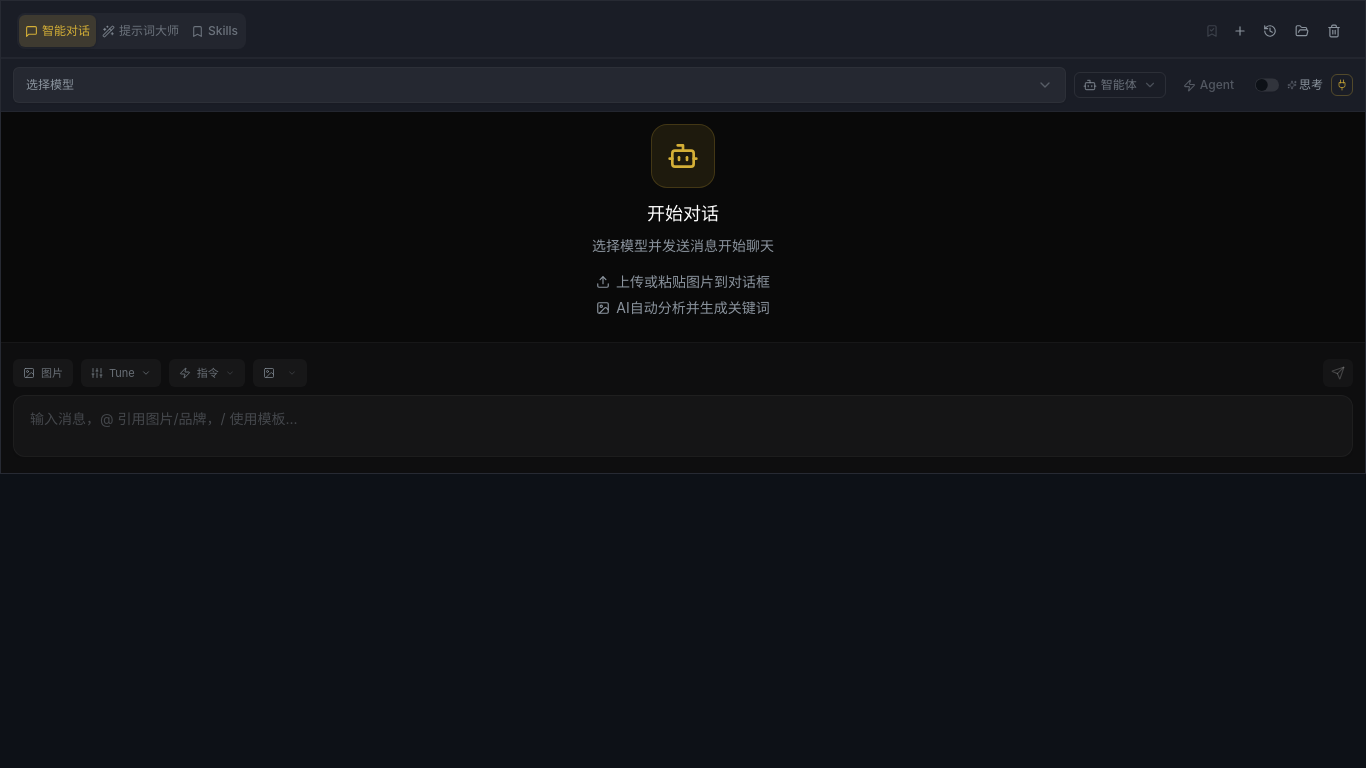
Test case: Canvas compliance report projection › keeps a restored report visible and disables recheck after its current Skill is deleted
Click the button with aria-label "Skills技能库": (214, 31) [185,15,244,47]
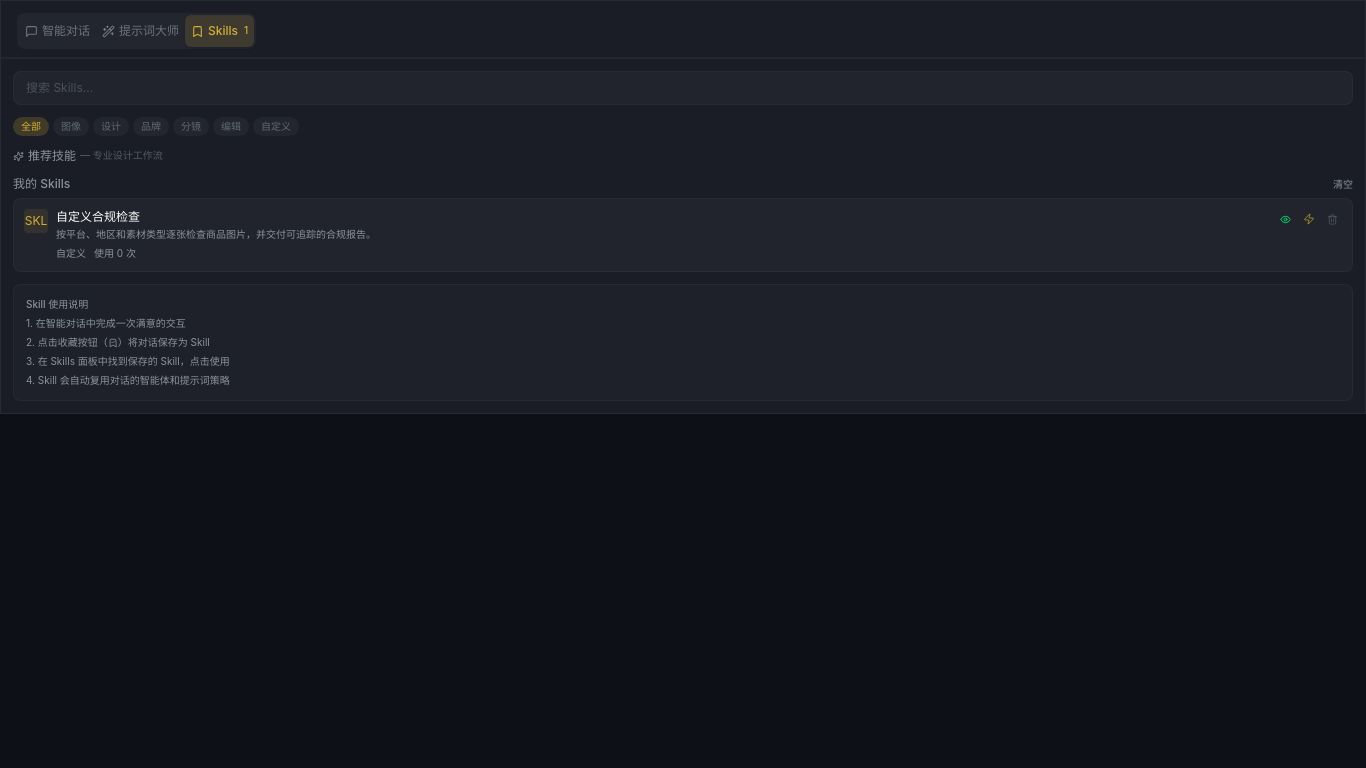
Click the button titled "使用此 Skill": (1309, 219) [1299,209,1319,229]
(page scrolled)
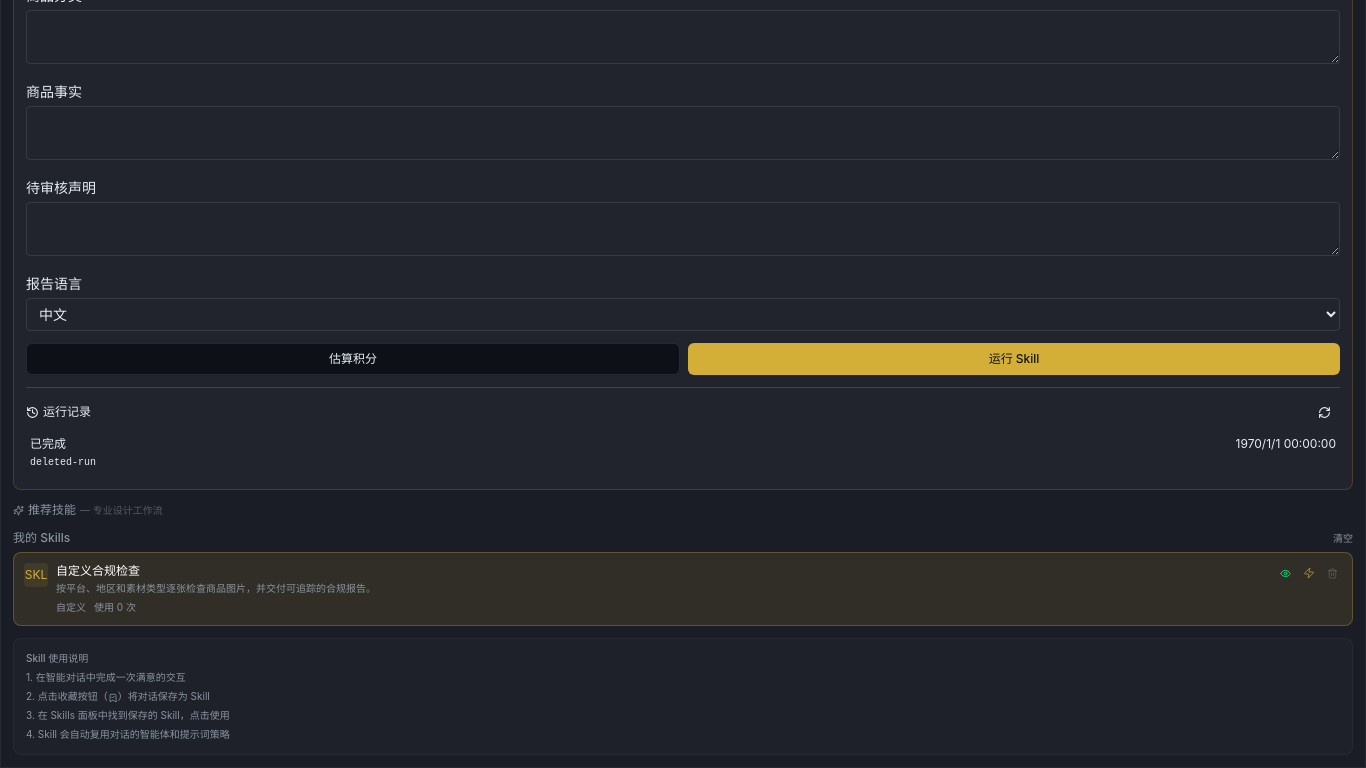
Click the button with aria-label "查看任务 deleted-run": (48, 444) [26,428,1340,477]
(page scrolled)
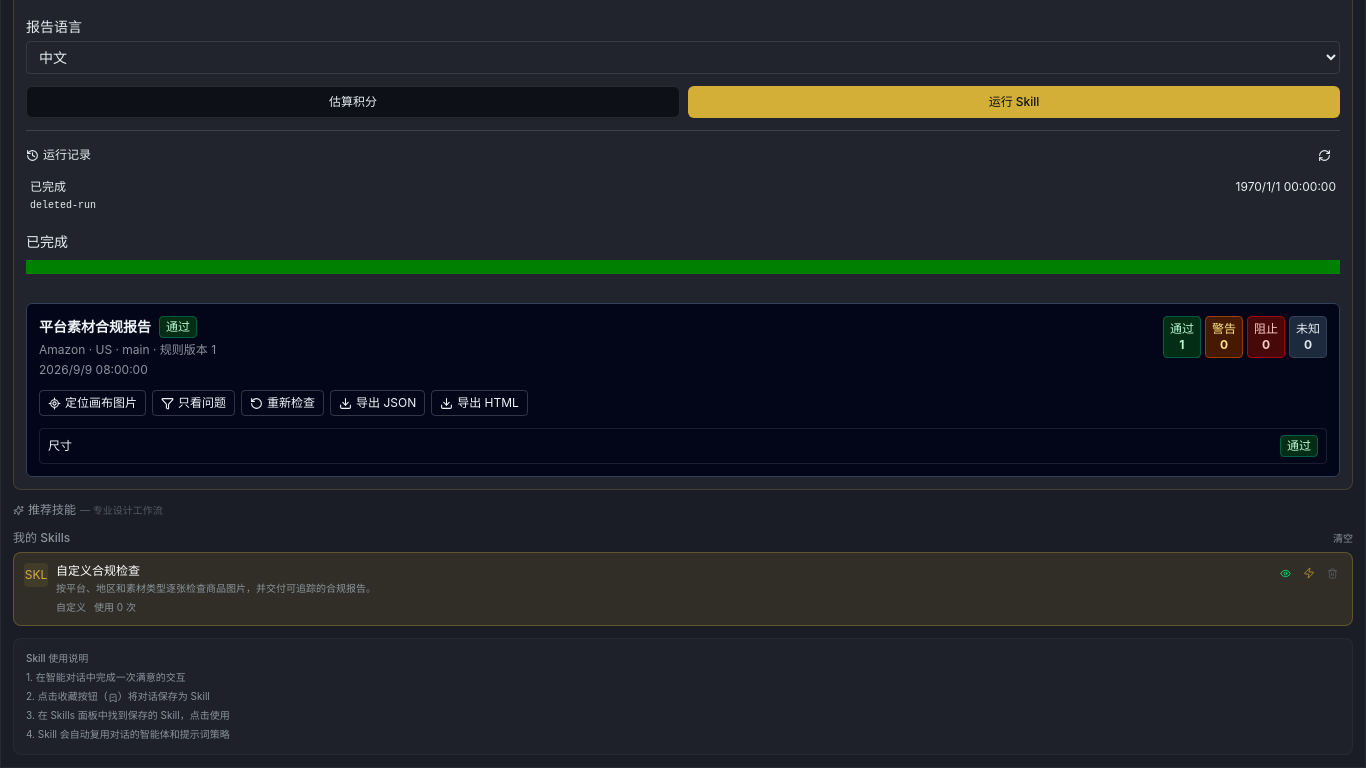
Check: the element "平台素材合规报告" is shown, box [26,303,1340,477]
Click the button titled "删除": (1332, 573) [1323,564,1342,583]
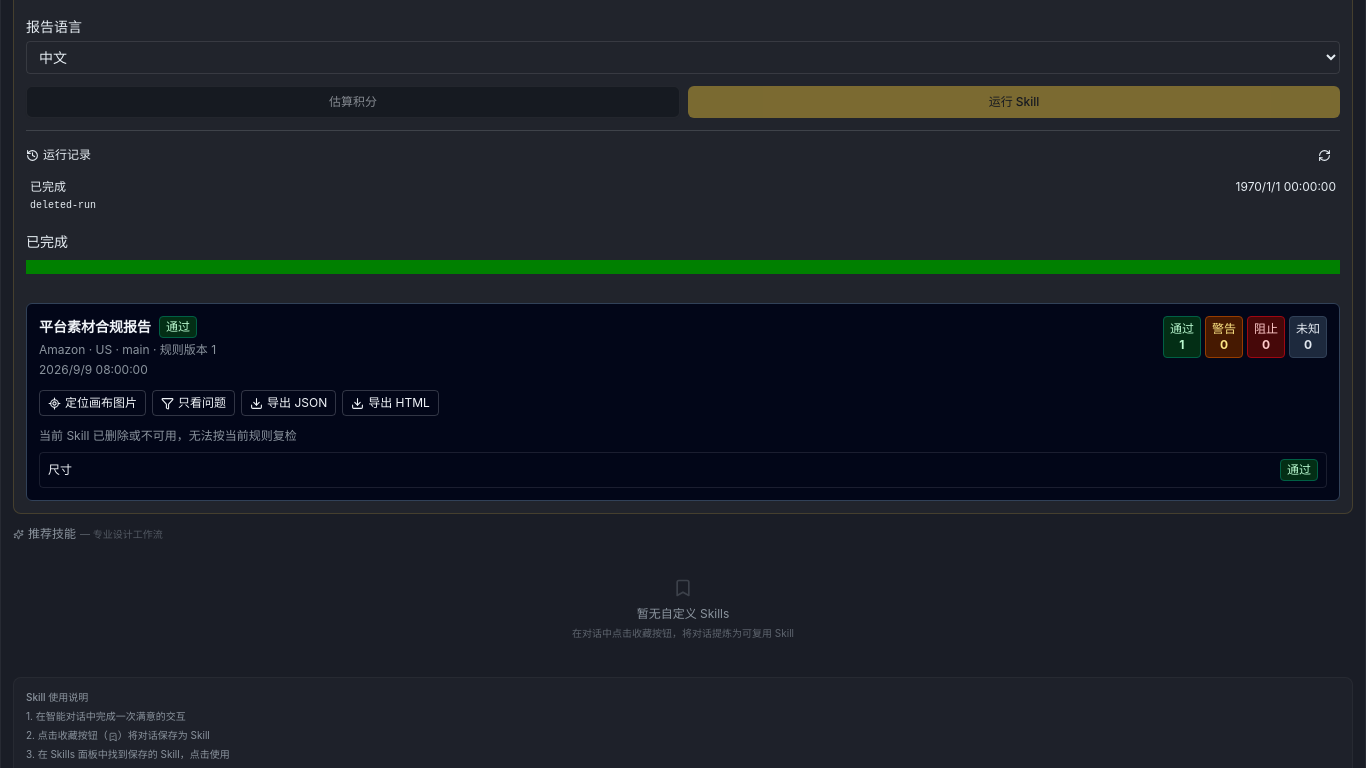
Check: the element "平台素材合规报告" is shown, box [26,303,1340,501]
Check: the text "当前 Skill 已删除或不可用，无法按当前规则复检" is shown, box [39,428,297,443]
Check: the button "重新检查" is gone
